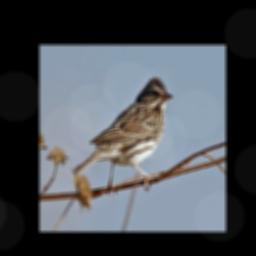Sparrow: (70, 76, 174, 199)
